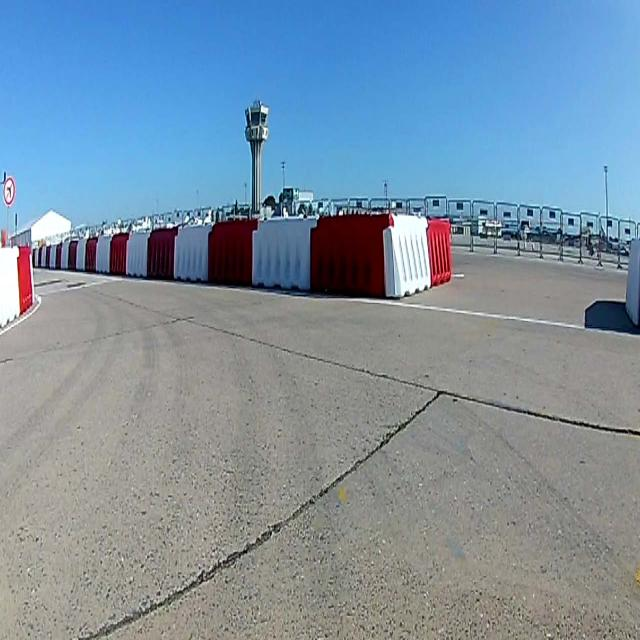soladonulmez: (4, 177, 15, 203)
